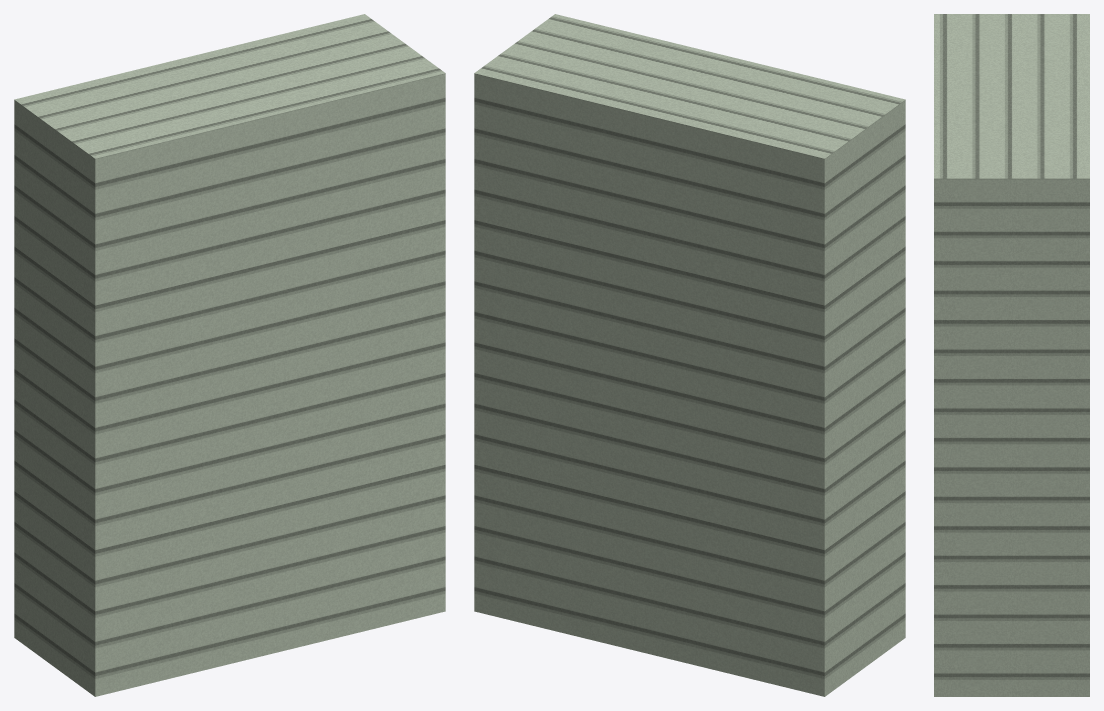
File: bank_teller_cage_window.glb
3 renders of one model, left to right at view 1: azimuth 30°, elevation 25°; view 2: azimuth 150°, elevation 25°; view 3: azimuth 270°, elevation 25°, orthographic. The views are drawn at different scales.
Parts seen in each view (by area): view 1: bank_teller_cage_window-col; view 2: bank_teller_cage_window-col; view 3: bank_teller_cage_window-col.
Boxes of the visible parts, x1,y1,x2,y2 form: bank_teller_cage_window-col: (14,14,445,696); bank_teller_cage_window-col: (474,14,905,696); bank_teller_cage_window-col: (934,14,1089,696).
Size of the model in its own units: 1.5 by 2.2 by 0.6.
1 material, 1 textured.
